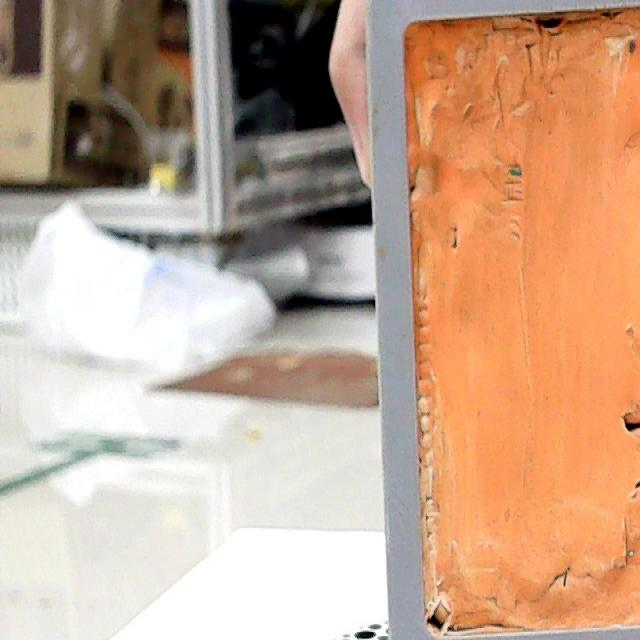block: (367, 2, 632, 630)
